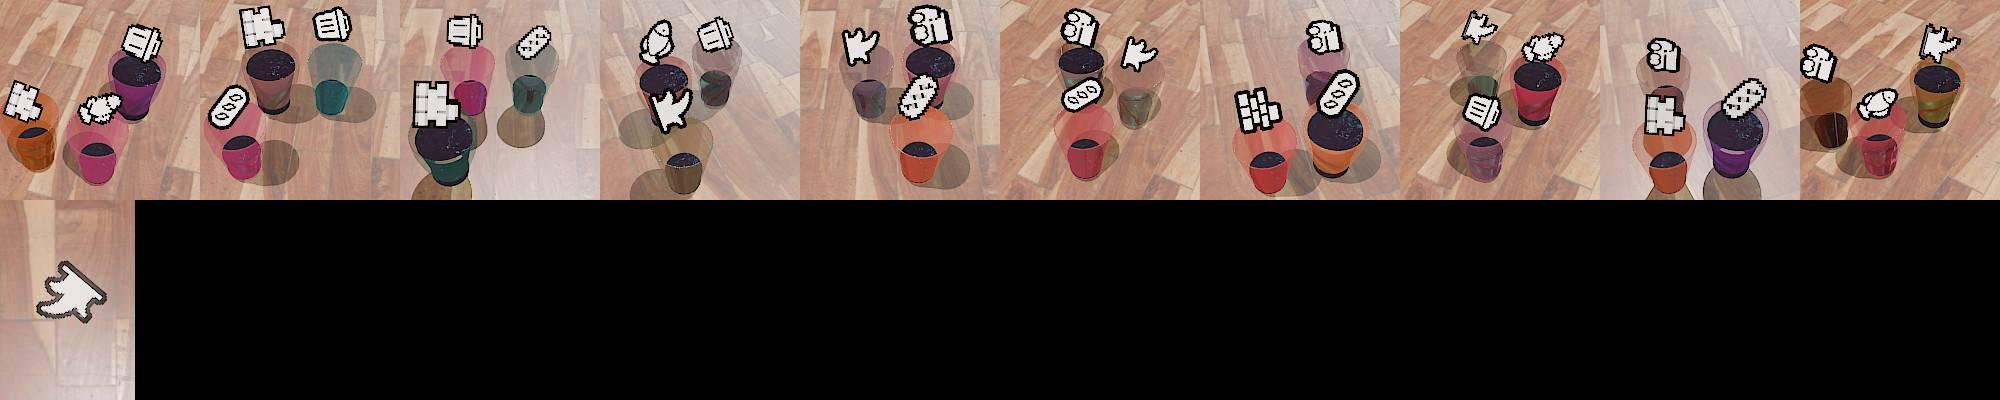icon: (34, 261, 108, 325), (1236, 85, 1283, 134), (412, 79, 457, 127), (1315, 69, 1360, 117), (648, 87, 693, 134), (239, 5, 287, 48), (897, 74, 940, 121), (907, 4, 953, 47), (1719, 76, 1767, 118), (208, 83, 250, 129), (1644, 92, 1686, 136), (3, 79, 43, 124), (639, 18, 676, 65), (121, 23, 163, 64), (1918, 23, 1960, 64), (1462, 92, 1503, 132), (1061, 75, 1103, 113), (1060, 8, 1098, 48), (842, 27, 880, 68), (695, 15, 735, 54), (77, 93, 122, 125), (311, 6, 351, 43), (1801, 43, 1838, 83), (1856, 87, 1899, 120), (1520, 32, 1565, 64), (445, 13, 483, 50), (1120, 36, 1157, 73), (1460, 10, 1496, 48), (1306, 19, 1343, 55), (515, 24, 552, 60), (1647, 37, 1681, 73)
